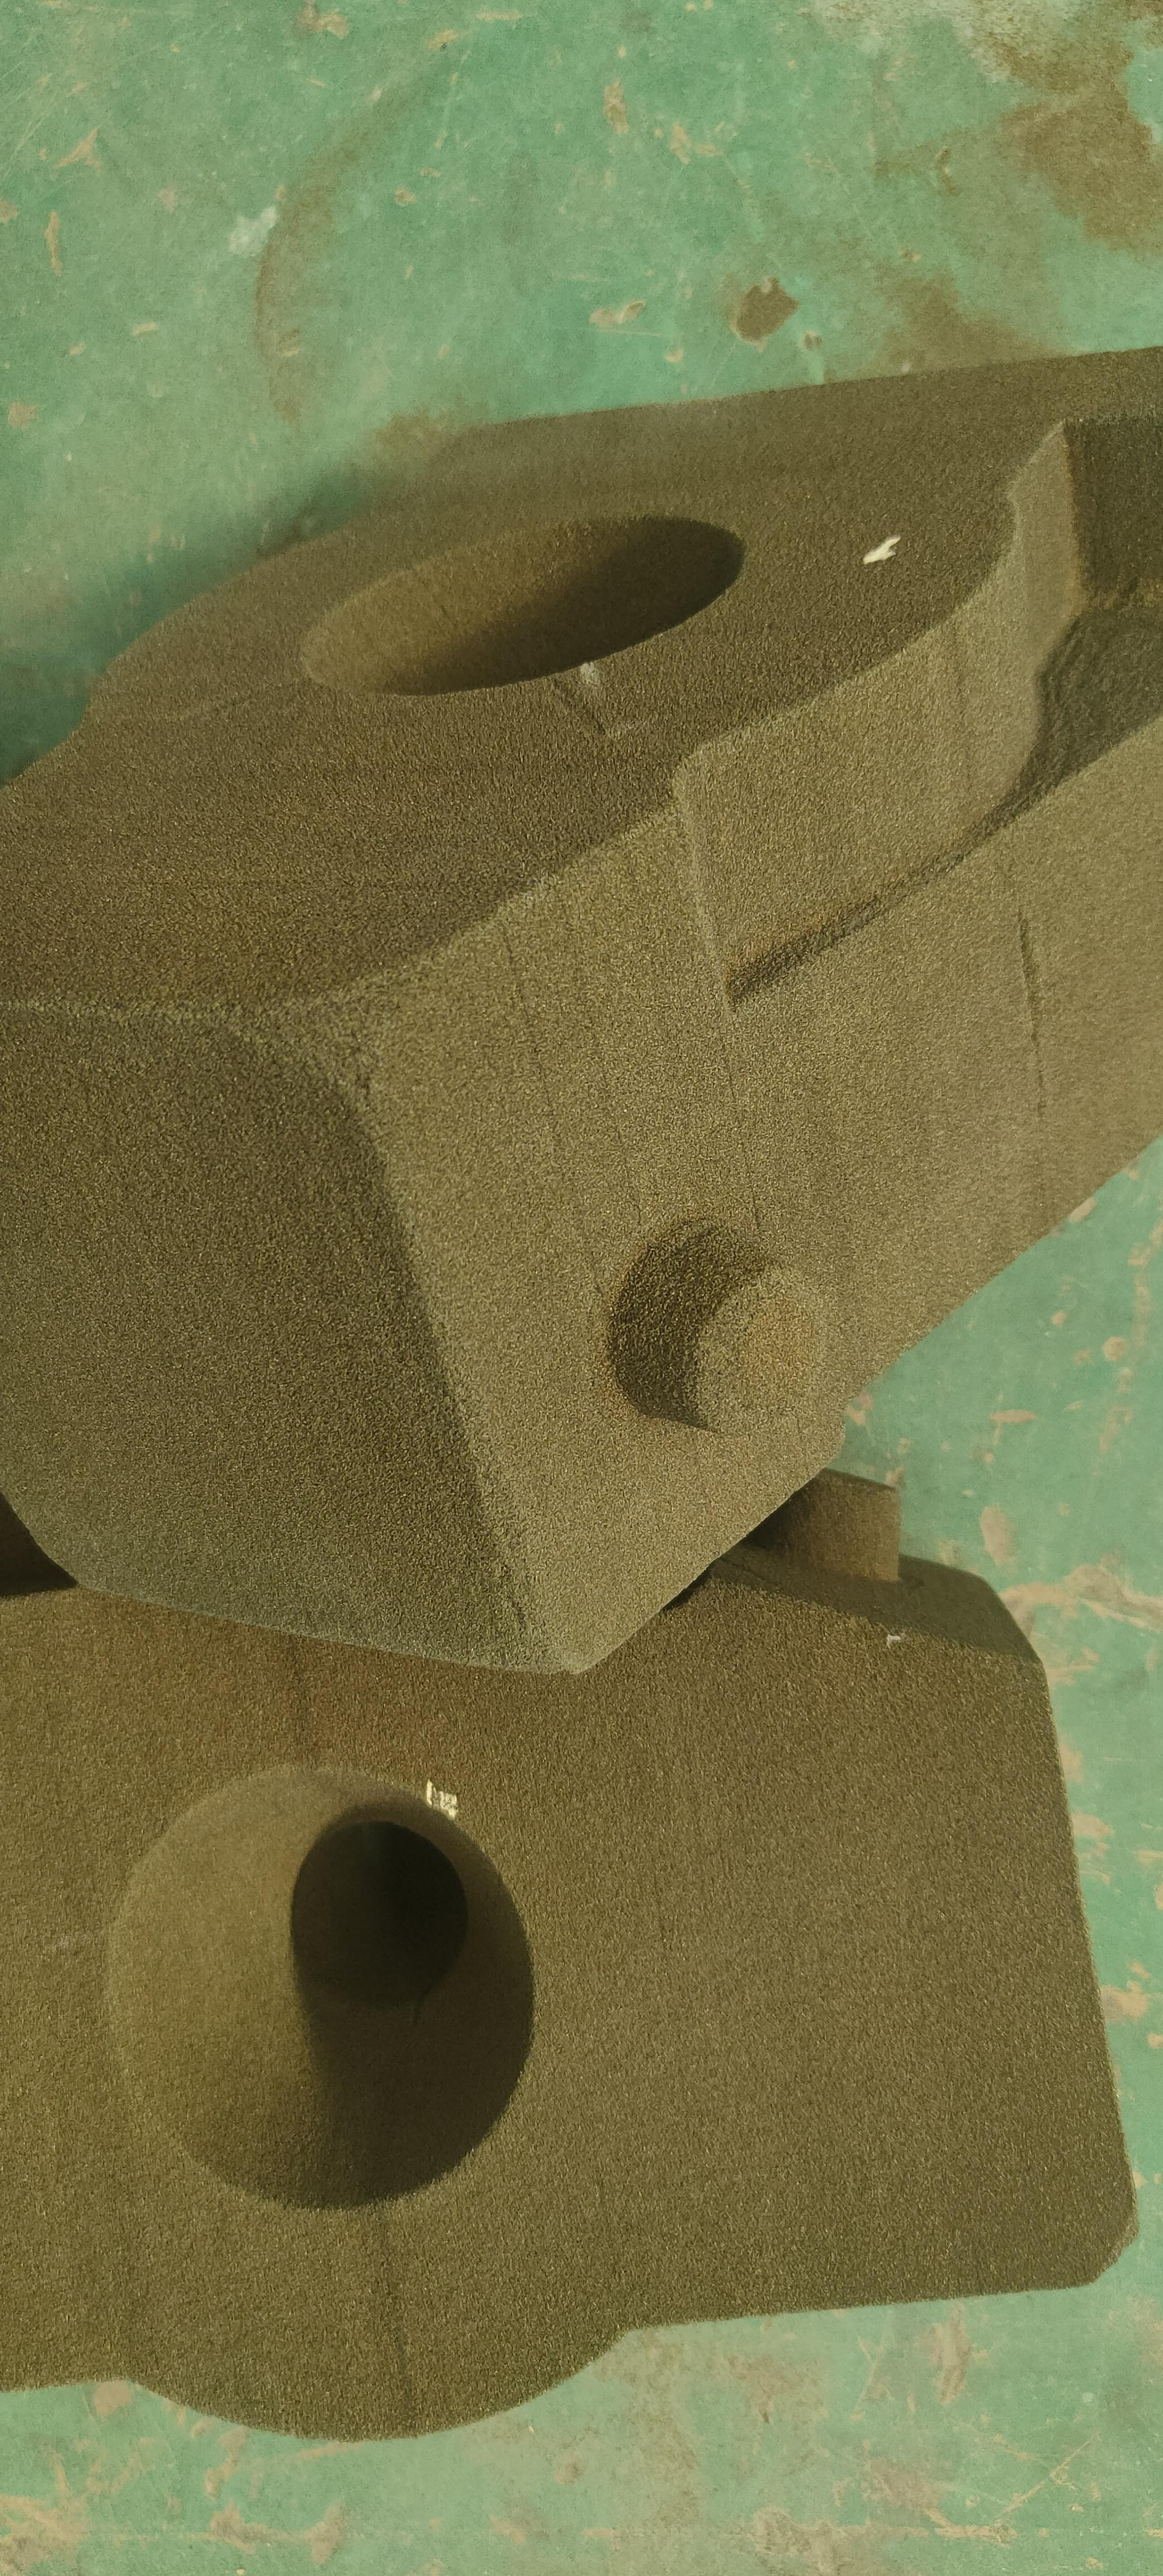pouring hole: (103, 1764, 536, 2211), (299, 511, 744, 698)
